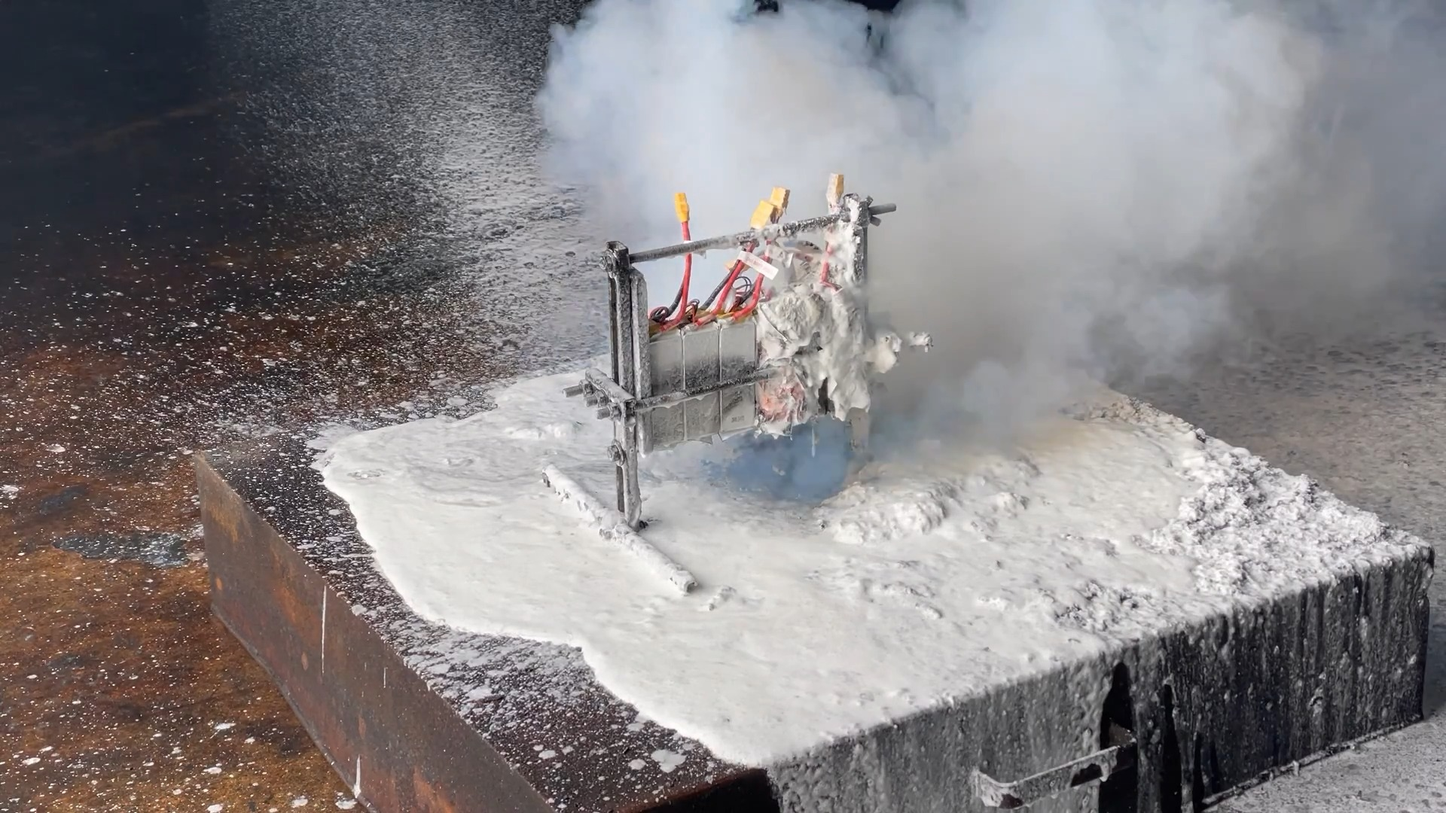smoke: (530, 0, 1446, 461)
